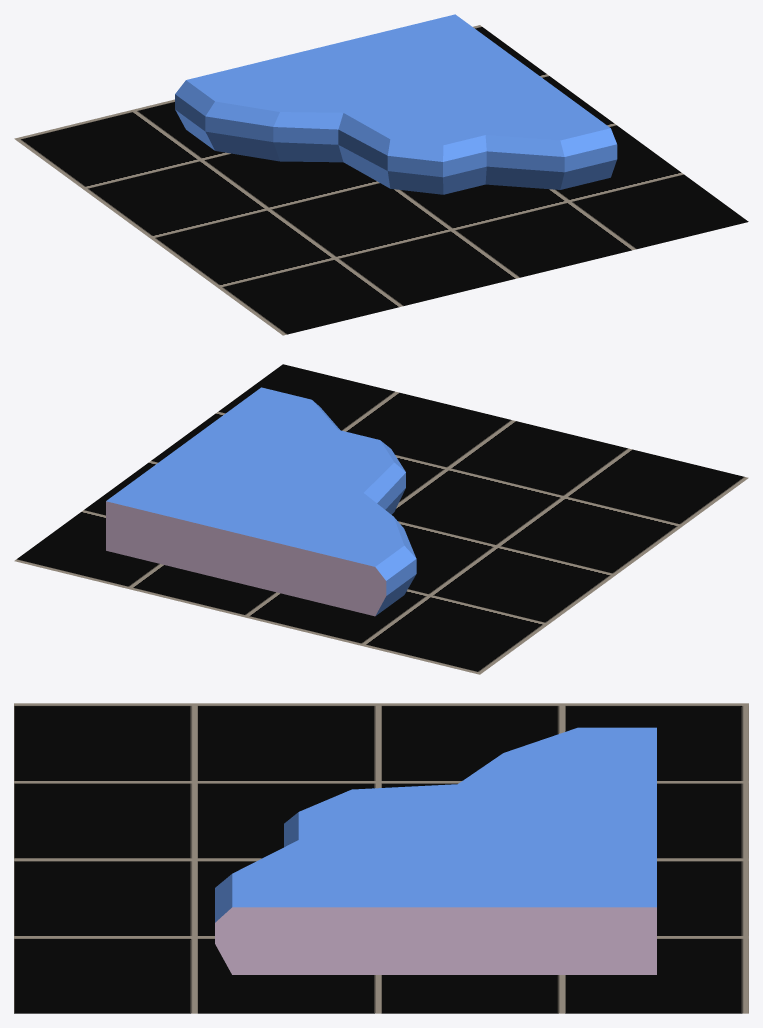
File: Iceberg_Curve_Outer_3x3_2.glb
3 renders of one model, top to bottom at view 1: azimuth 30°, elevation 25°; view 2: azimuth 150°, elevation 25°; view 3: azimuth 270°, elevation 25°, orthographic. The views are drawn at different scales.
Visible parts, largest first — view 1: Floor, Iceberg_Curve_Outer_3x3_2; view 2: Floor, Iceberg_Curve_Outer_3x3_2; view 3: Floor, Iceberg_Curve_Outer_3x3_2.
Part boxes in pixels (<box>): Floor: <box>14,25,748,335</box>; Iceberg_Curve_Outer_3x3_2: <box>175,14,617,194</box>; Floor: <box>14,364,748,674</box>; Iceberg_Curve_Outer_3x3_2: <box>106,387,416,616</box>; Floor: <box>14,703,748,1013</box>; Iceberg_Curve_Outer_3x3_2: <box>215,727,656,974</box>.
Size of the model in its own units: 400 by 40.63 by 400.
Materials: 3 (1 with a texture image).
